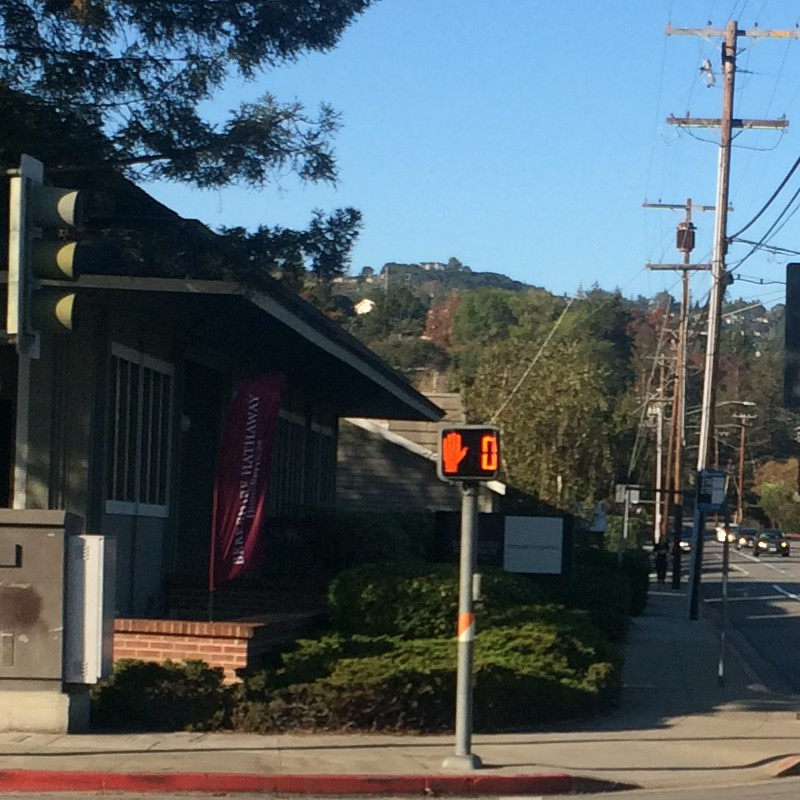stop: (434, 426, 503, 483)
